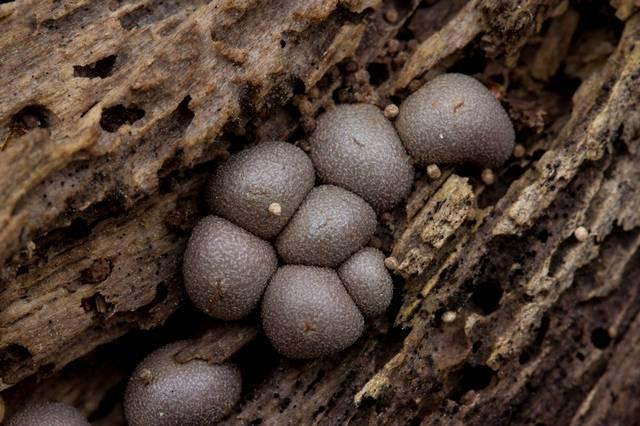poisonous_mushroom: (123, 69, 516, 423), (394, 71, 516, 170), (308, 101, 414, 210), (205, 139, 315, 238), (122, 339, 242, 425), (181, 214, 277, 320), (260, 263, 365, 359), (274, 183, 377, 266), (337, 245, 394, 317), (3, 399, 91, 425)
